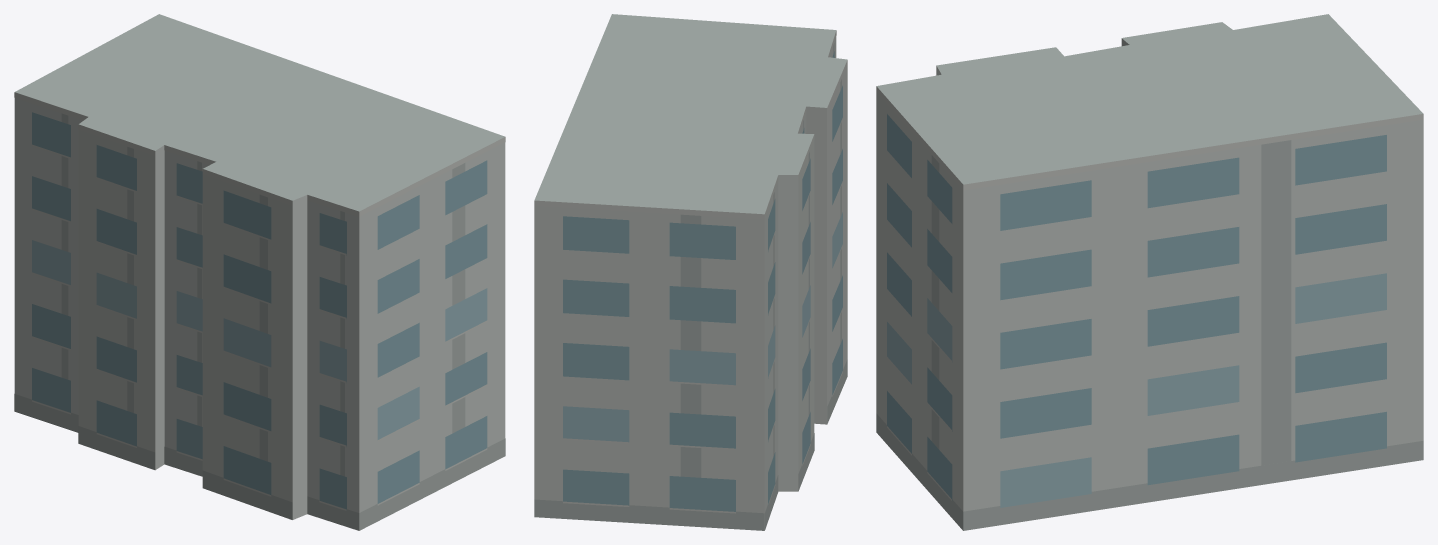
Rendered from survey-upis-33000097.glb.
3 views of the same model, side by side, from view 1: azimuth 30°, elevation 25°; view 2: azimuth 150°, elevation 25°; view 3: azimuth 270°, elevation 25° (orthographic). The views are drawn at different scales.
Parts seen in each view (by area): view 1: survey-upis-33000097.tmp; view 2: survey-upis-33000097.tmp; view 3: survey-upis-33000097.tmp.
Boxes of the visible parts, box(x1,y1,x2,y2) form: survey-upis-33000097.tmp: box(14, 14, 505, 530); survey-upis-33000097.tmp: box(534, 14, 847, 530); survey-upis-33000097.tmp: box(876, 14, 1423, 530).
Bounding box in the file's own units: 15.12 × 14.3 × 20.49.
